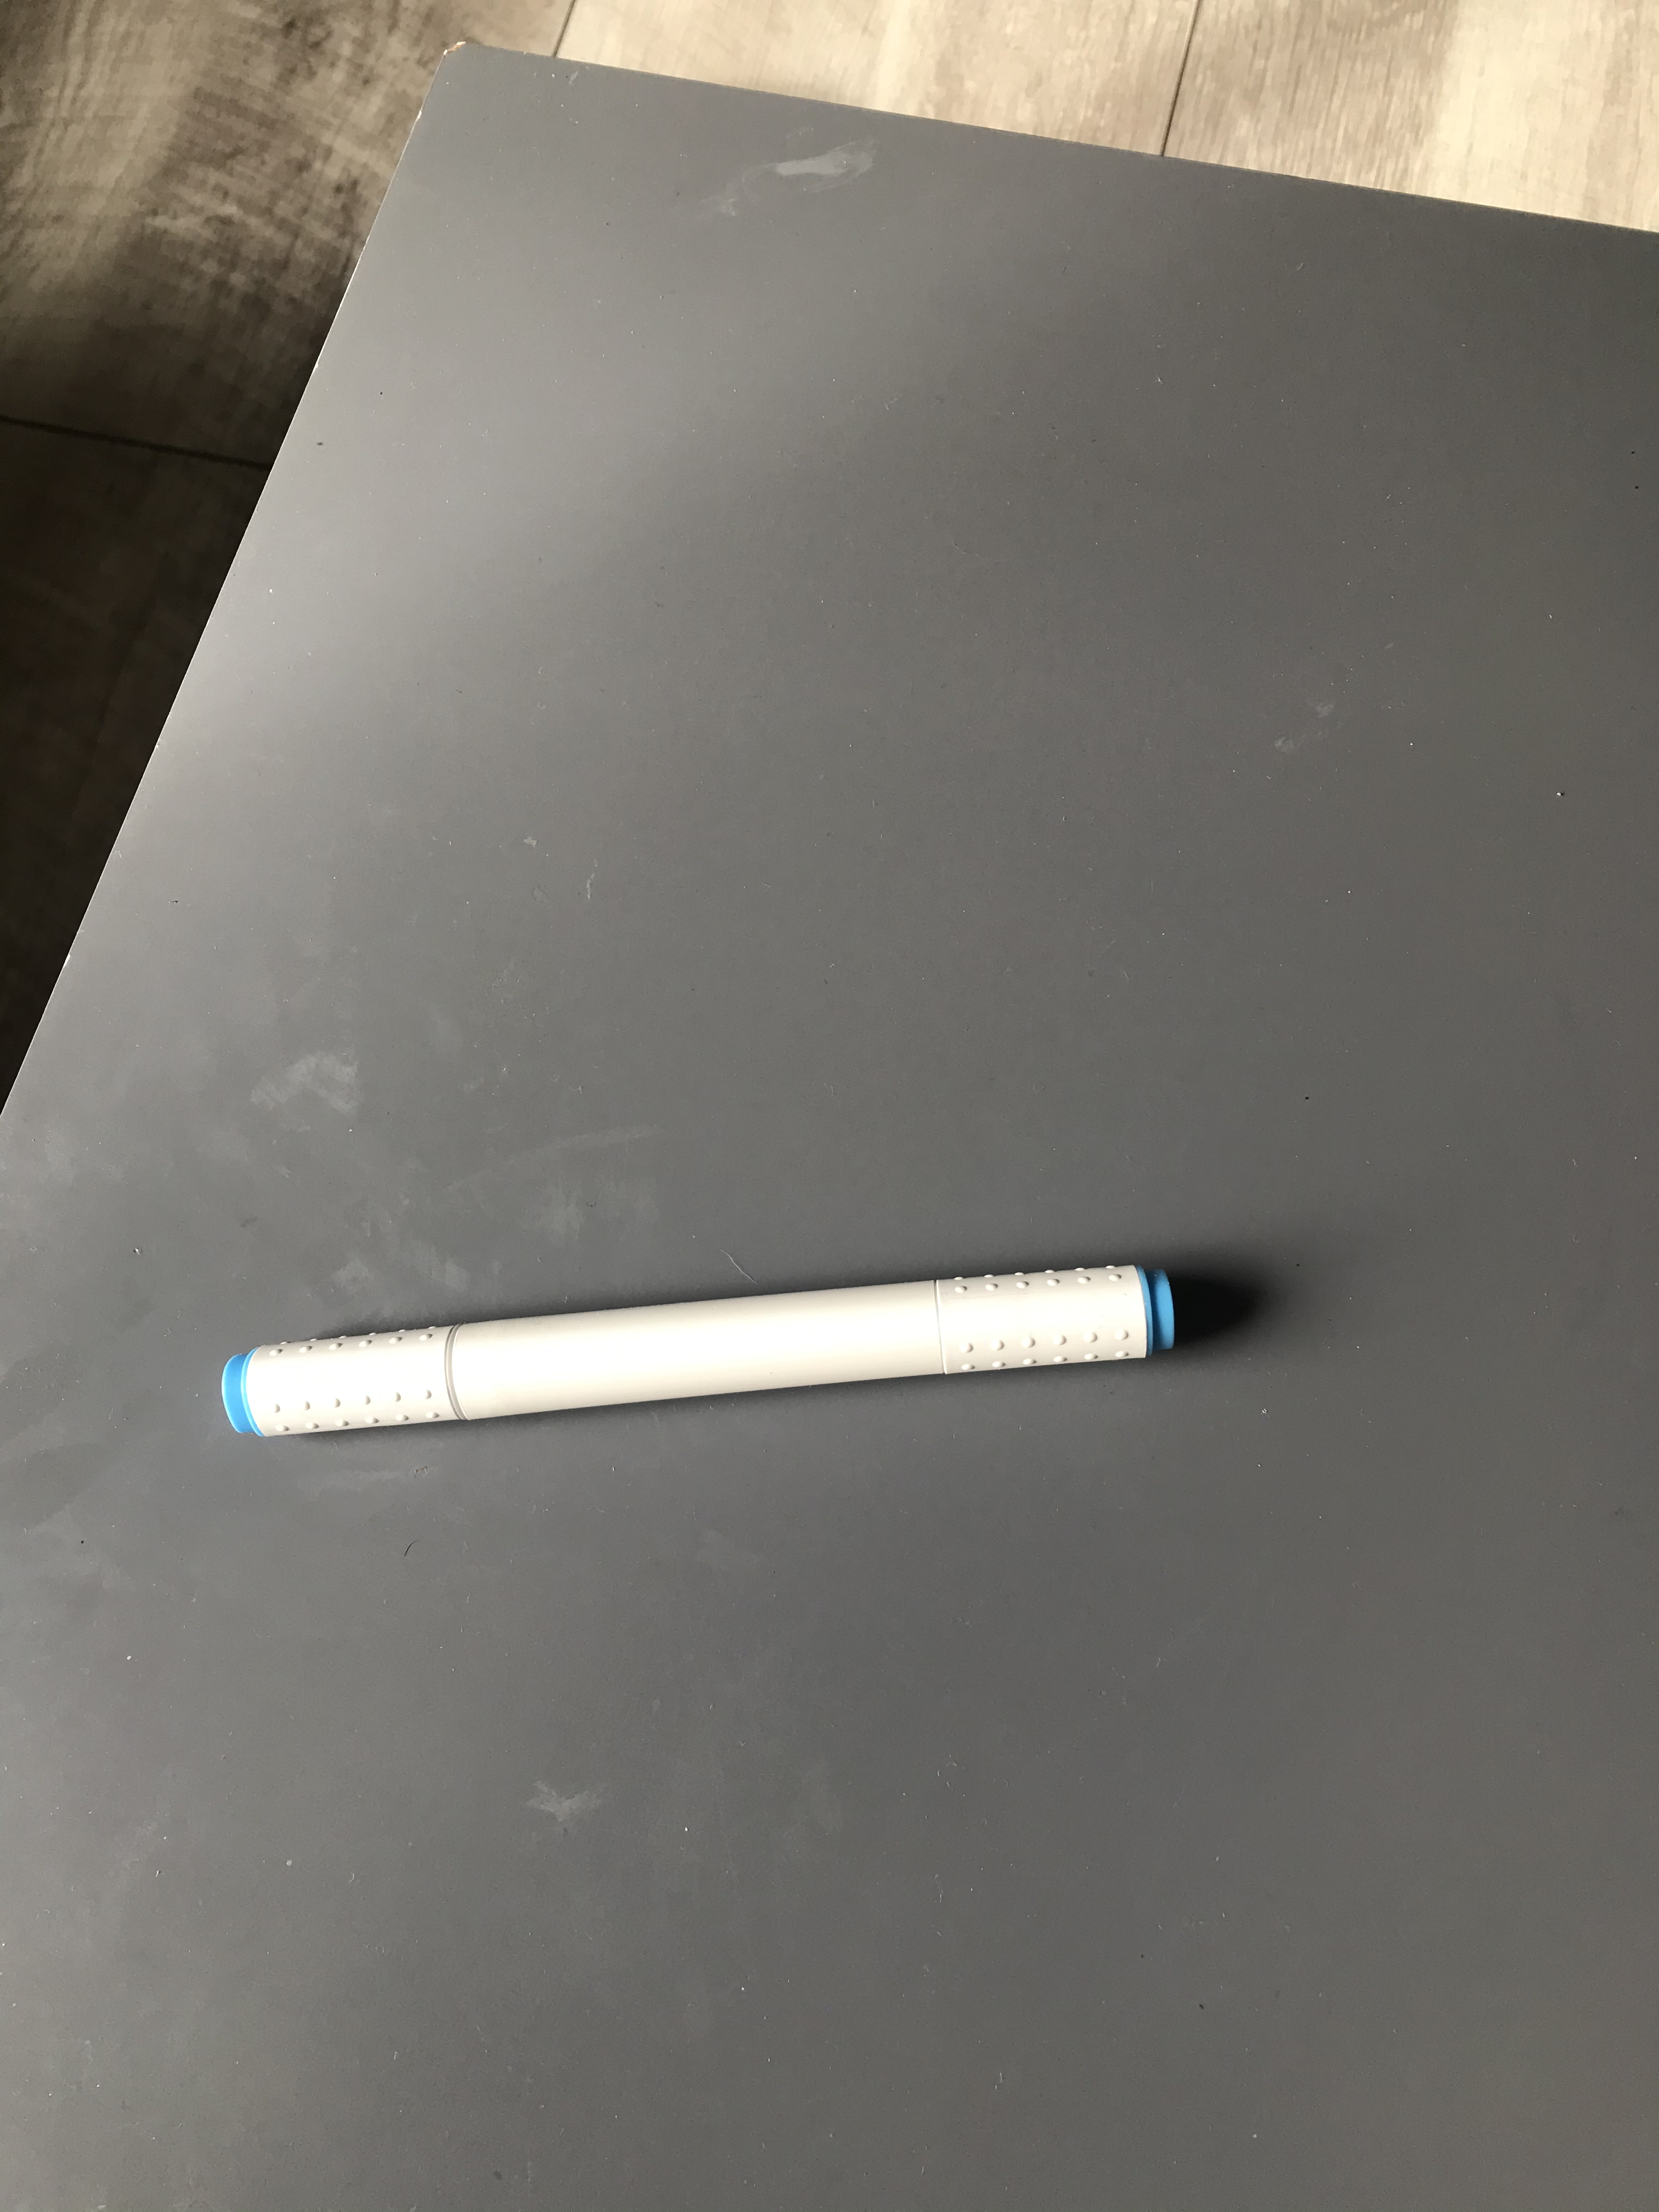lapiz: (214, 1251, 1194, 1449)
